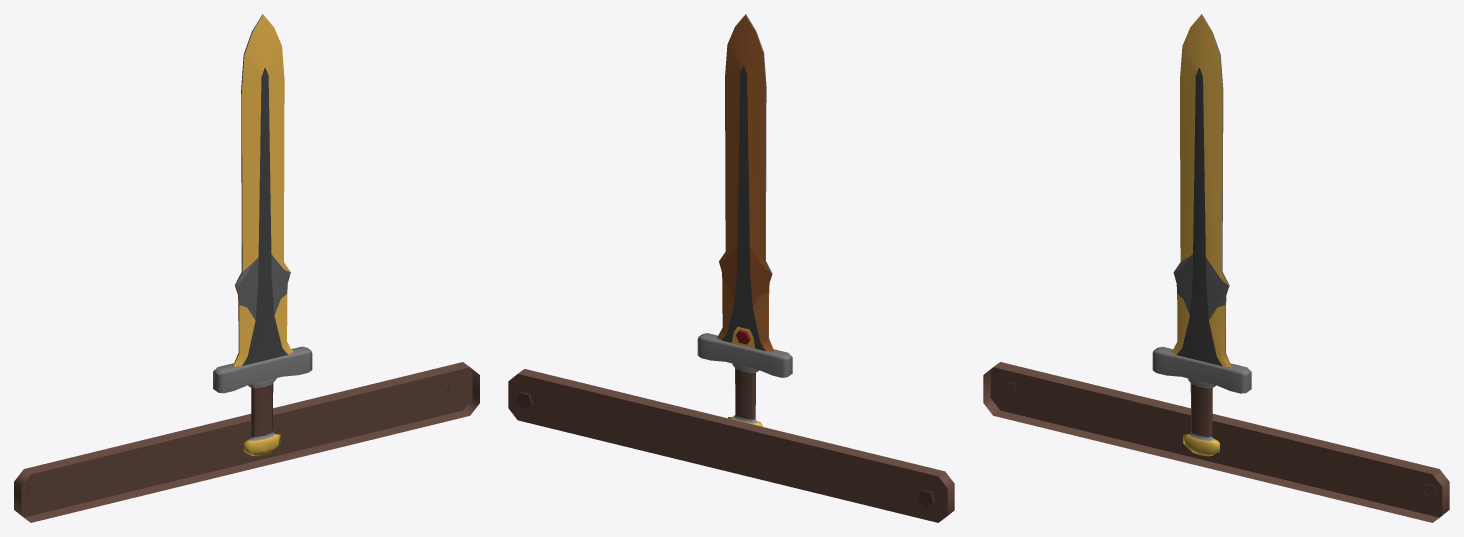
Rendered from firerate_t1_a2.fbx.
3 views of the same model, side by side, from view 1: azimuth 30°, elevation 25°; view 2: azimuth 150°, elevation 25°; view 3: azimuth 330°, elevation 25° (orthographic). The views are drawn at different scales.
Parts seen in each view (by area): view 1: firerate_t1_a2_m_lock, firerate_t1_a2_m; view 2: firerate_t1_a2_m_lock, firerate_t1_a2_m; view 3: firerate_t1_a2_m_lock, firerate_t1_a2_m.
Boxes of the visible parts, left/top/right/bottom form: firerate_t1_a2_m_lock: left=14, top=362, right=479, bottom=522; firerate_t1_a2_m: left=213, top=14, right=312, bottom=456; firerate_t1_a2_m_lock: left=508, top=369, right=954, bottom=522; firerate_t1_a2_m: left=697, top=14, right=792, bottom=426; firerate_t1_a2_m_lock: left=983, top=362, right=1449, bottom=522; firerate_t1_a2_m: left=1152, top=14, right=1251, bottom=456.
Size of the model in its own units: 5.46 by 5.28 by 0.5277.
